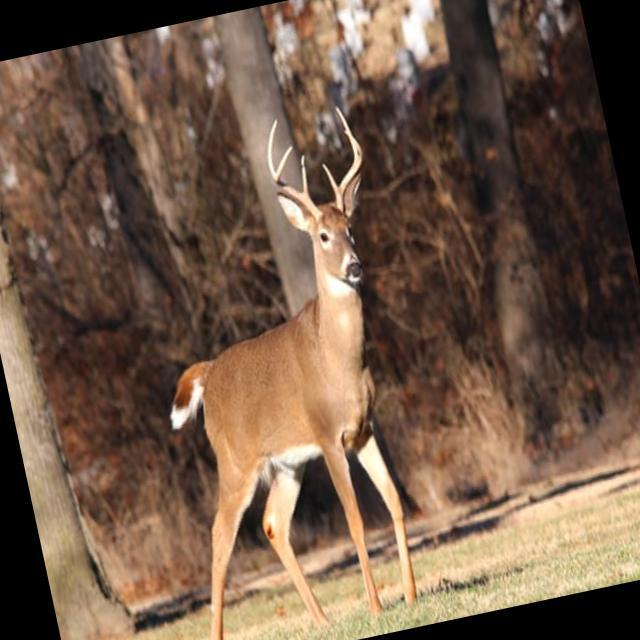L-F: (335, 128, 363, 212)
L-G1: (321, 162, 338, 194)
R-F: (273, 143, 323, 222)
R-G1: (300, 153, 309, 198)
R-G2: (266, 118, 278, 177)
